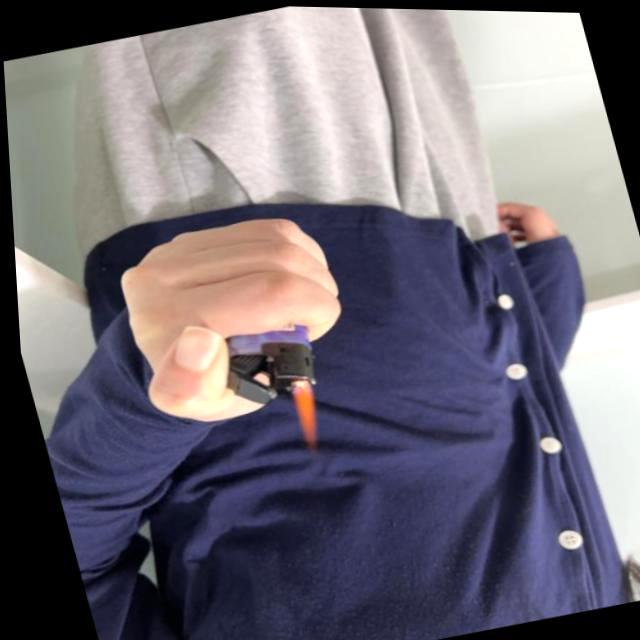fire: (282, 371, 326, 449)
